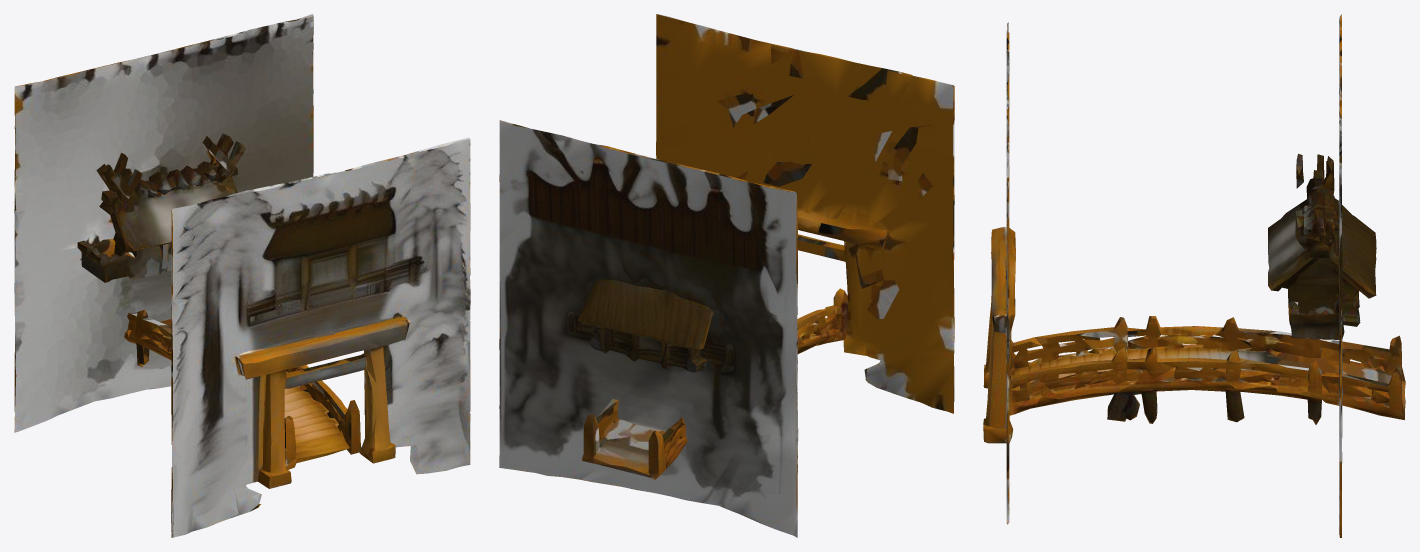
File: ise-jingu.glb
3 renders of one model, left to right at view 1: azimuth 30°, elevation 25°; view 2: azimuth 150°, elevation 25°; view 3: azimuth 270°, elevation 25°, orthographic. The views are drawn at different scales.
Parts seen in each view (by area): view 1: logan-textured.obj; view 2: logan-textured.obj; view 3: logan-textured.obj.
Part boxes in pixels (bbox=[...]): logan-textured.obj: bbox=[14, 14, 470, 537]; logan-textured.obj: bbox=[499, 14, 954, 537]; logan-textured.obj: bbox=[983, 14, 1405, 537].
Bounding box in the file's own units: 0.8663 × 0.9662 × 1.
1 material, 1 textured.
